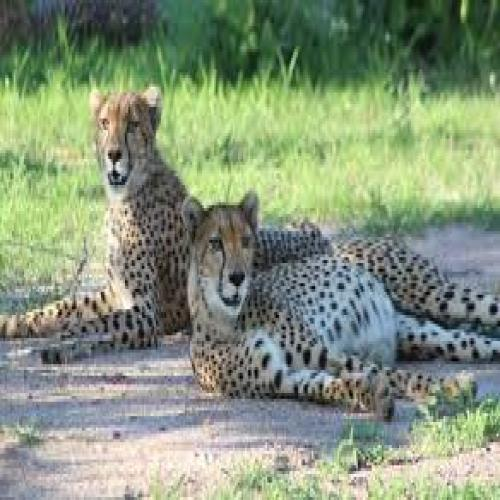cheetah-endangered: (0, 85, 326, 360), (178, 191, 500, 419)
